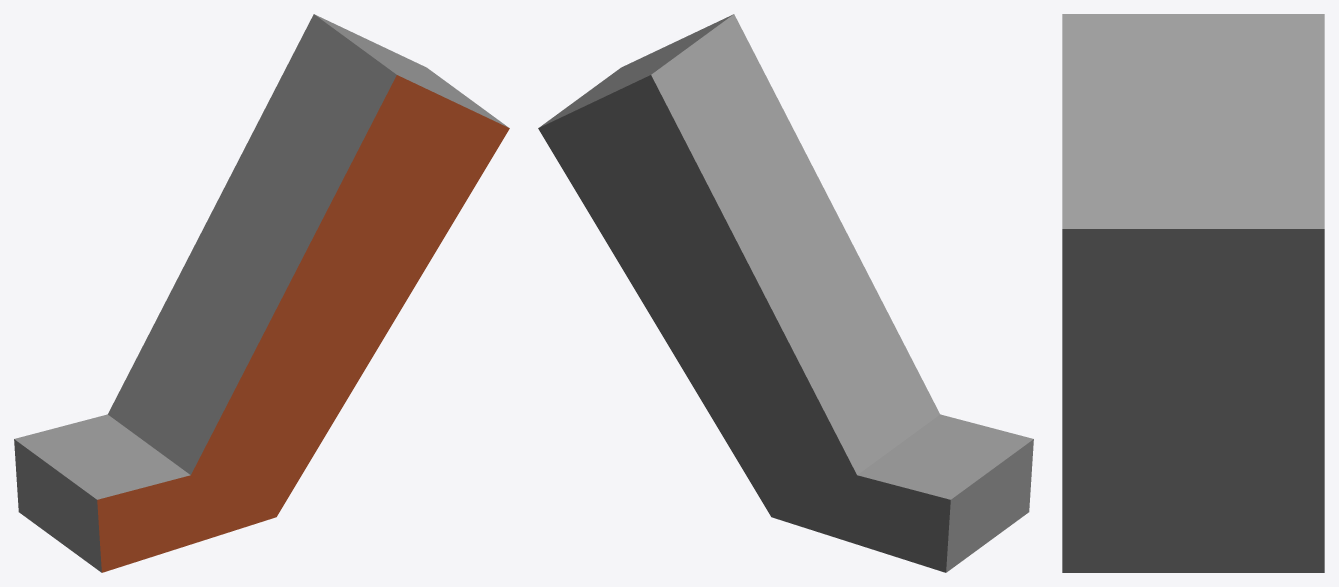
File: construction_0941_assumed_A_Casa_h6m.obj
3 renders of one model, left to right at view 1: azimuth 30°, elevation 25°; view 2: azimuth 150°, elevation 25°; view 3: azimuth 270°, elevation 25°, orthographic. The views are drawn at different scales.
Parts seen in each view (by area): view 1: construction_0941_assumed_A_Casa; view 2: construction_0941_assumed_A_Casa; view 3: construction_0941_assumed_A_Casa.
Part boxes in pixels (x1,y1,x2,y2): construction_0941_assumed_A_Casa: (14, 14, 509, 572); construction_0941_assumed_A_Casa: (538, 14, 1033, 572); construction_0941_assumed_A_Casa: (1062, 14, 1324, 572).
Bounding box in the file's own units: 17.2 × 16.97 × 6.
